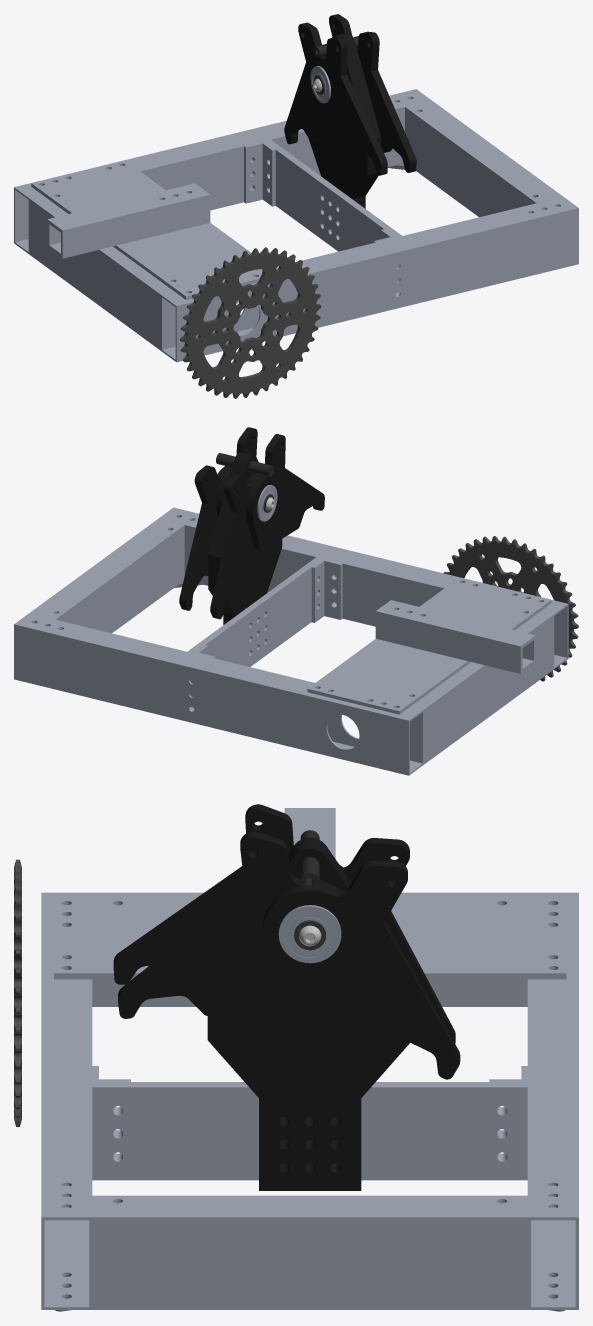
3 renders of one model, top to bottom at view 1: azimuth 30°, elevation 25°; view 2: azimuth 150°, elevation 25°; view 3: azimuth 270°, elevation 25°, orthographic. The views are drawn at different scales.
Parts seen in each view (by area): view 1: NAUO9, NAUO8, NAUO11, NAUO14, NAUO13, NAUO12, NAUO4, NAUO5, NAUO20, NAUO15, NAUO19, NAUO25 (+2 smaller); view 2: NAUO13, NAUO11, NAUO14, NAUO9, NAUO12, NAUO4, NAUO5, NAUO8, NAUO20, NAUO25, NAUO18, NAUO19 (+3 smaller); view 3: NAUO14, NAUO5, NAUO24, NAUO11, NAUO18, NAUO9, NAUO13, NAUO15, NAUO20, NAUO12, NAUO25, NAUO27 (+4 smaller).
Part boxes in pixels (<box>): NAUO9: <box>161,196,578,362</box>; NAUO8: <box>180,247,321,398</box>; NAUO11: <box>31,160,262,299</box>; NAUO14: <box>405,100,562,217</box>; NAUO13: <box>14,89,431,253</box>; NAUO12: <box>29,195,173,350</box>; NAUO4: <box>47,183,210,258</box>; NAUO5: <box>264,139,401,251</box>; NAUO20: <box>307,37,387,175</box>; NAUO15: <box>357,31,416,172</box>; NAUO19: <box>308,34,374,203</box>; NAUO25: <box>284,22,327,144</box>; NAUO13: <box>14,613,423,775</box>; NAUO11: <box>307,577,551,714</box>; NAUO14: <box>29,518,184,633</box>; NAUO9: <box>159,507,568,669</box>; NAUO12: <box>411,612,553,764</box>; NAUO4: <box>375,600,535,673</box>; NAUO5: <box>187,557,322,666</box>; NAUO8: <box>443,536,578,683</box>; NAUO20: <box>246,434,324,550</box>; NAUO25: <box>210,473,261,619</box>; NAUO18: <box>179,465,231,610</box>; NAUO19: <box>214,453,282,619</box>; NAUO14: <box>92,1195,527,1309</box>; NAUO5: <box>92,1082,527,1180</box>; NAUO24: <box>207,843,409,1190</box>; NAUO11: <box>54,897,566,979</box>; NAUO18: <box>259,860,460,1079</box>; NAUO9: <box>41,892,92,1309</box>; NAUO13: <box>527,892,578,1309</box>; NAUO15: <box>118,831,341,1018</box>; NAUO20: <box>113,804,342,984</box>; NAUO12: <box>92,892,527,1006</box>; NAUO25: <box>341,838,455,1043</box>; NAUO27: <box>278,905,341,963</box>.
Bounding box in the file's own units: 0.4191 × 0.2399 × 0.2802.
